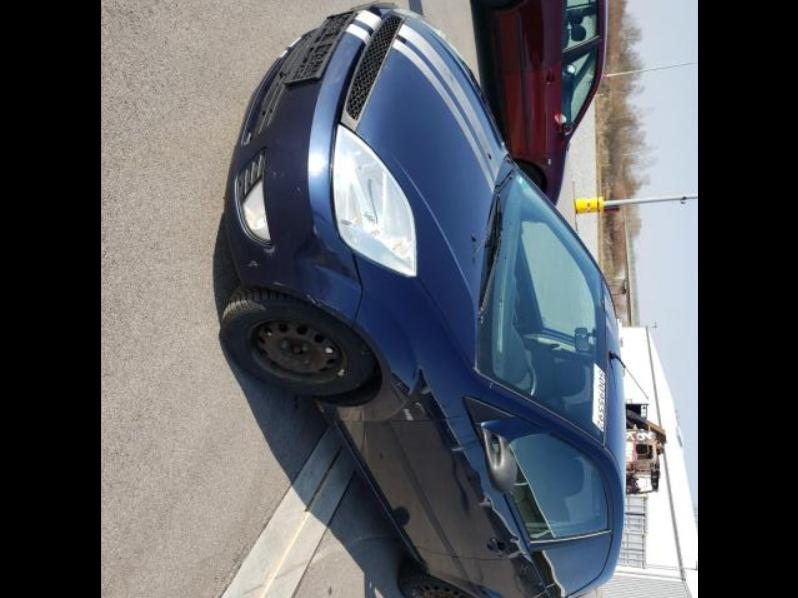Dent: (292, 233, 356, 297)
Missing part: (281, 14, 354, 81)
Paint chip: (305, 294, 320, 306), (245, 258, 259, 269), (261, 244, 275, 255), (270, 281, 282, 286)
Scratch: (314, 298, 348, 318), (311, 224, 319, 240), (271, 171, 276, 179)
